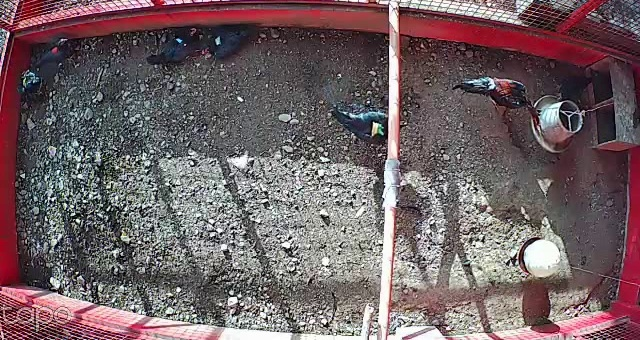Chicken: (328, 98, 411, 147), (195, 22, 262, 72), (140, 21, 202, 73), (11, 66, 67, 104), (33, 33, 86, 71), (550, 73, 599, 105)
Rooster: (455, 68, 543, 138)
Saddle_Color_Blue: (176, 36, 187, 47)
Saddle_Color_Red: (52, 47, 60, 55)
Saddle_Color_YellowGreen: (370, 122, 386, 135)
